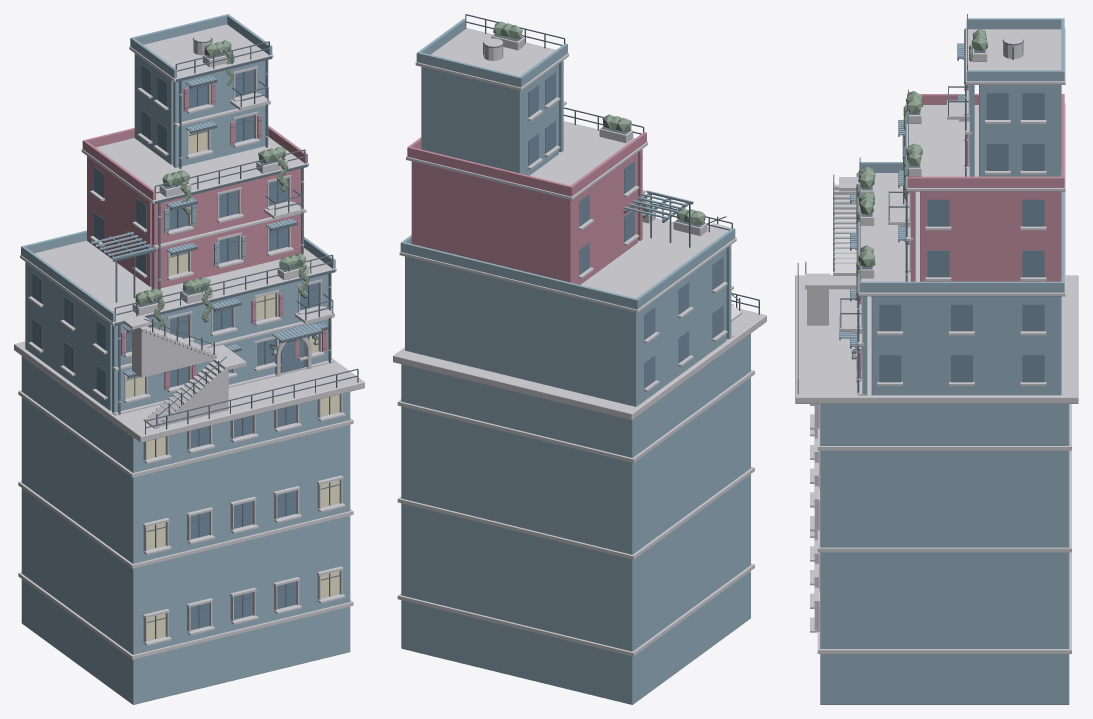
File: LayeredTerraceQuarter.fbx
3 views of the same model, side by side, from view 1: azimuth 30°, elevation 25°; view 2: azimuth 150°, elevation 25°; view 3: azimuth 270°, elevation 25° (orthographic). The views are drawn at different scales.
Visible parts, largest first — view 1: LayeredTerraceQuarter_LM_Mineral, LayeredTerraceQuarter_LM_Stone, LayeredTerraceQuarter_LM_Pomegranate, LayeredTerraceQuarter_LM_Glass, LayeredTerraceQuarter_LM_Ink, LayeredTerraceQuarter_LM_Window, LayeredTerraceQuarter_LM_Leaf; view 2: LayeredTerraceQuarter_LM_Mineral, LayeredTerraceQuarter_LM_Stone, LayeredTerraceQuarter_LM_Pomegranate, LayeredTerraceQuarter_LM_Glass, LayeredTerraceQuarter_LM_Ink, LayeredTerraceQuarter_LM_Leaf; view 3: LayeredTerraceQuarter_LM_Mineral, LayeredTerraceQuarter_LM_Stone, LayeredTerraceQuarter_LM_Pomegranate, LayeredTerraceQuarter_LM_Glass, LayeredTerraceQuarter_LM_Ink, LayeredTerraceQuarter_LM_Leaf.
Boxes of the visible parts, bbox=[...] form: LayeredTerraceQuarter_LM_Mineral: bbox=[21, 14, 350, 704]; LayeredTerraceQuarter_LM_Stone: bbox=[14, 24, 364, 659]; LayeredTerraceQuarter_LM_Pomegranate: bbox=[82, 83, 326, 390]; LayeredTerraceQuarter_LM_Glass: bbox=[32, 64, 318, 630]; LayeredTerraceQuarter_LM_Ink: bbox=[90, 37, 358, 638]; LayeredTerraceQuarter_LM_Window: bbox=[126, 130, 339, 640]; LayeredTerraceQuarter_LM_Leaf: bbox=[135, 40, 309, 329]; LayeredTerraceQuarter_LM_Mineral: bbox=[400, 18, 750, 704]; LayeredTerraceQuarter_LM_Stone: bbox=[393, 28, 766, 656]; LayeredTerraceQuarter_LM_Pomegranate: bbox=[407, 132, 646, 284]; LayeredTerraceQuarter_LM_Glass: bbox=[528, 72, 723, 388]; LayeredTerraceQuarter_LM_Ink: bbox=[465, 14, 759, 314]; LayeredTerraceQuarter_LM_Leaf: bbox=[493, 21, 705, 224]; LayeredTerraceQuarter_LM_Mineral: bbox=[820, 18, 1069, 704]; LayeredTerraceQuarter_LM_Stone: bbox=[795, 27, 1078, 653]; LayeredTerraceQuarter_LM_Pomegranate: bbox=[859, 85, 1064, 378]; LayeredTerraceQuarter_LM_Glass: bbox=[819, 93, 1044, 577]; LayeredTerraceQuarter_LM_Ink: bbox=[797, 14, 1023, 394]; LayeredTerraceQuarter_LM_Leaf: bbox=[856, 29, 987, 300].
Bounding box in the file's own units: 18.6 × 45.36 × 18.2.
